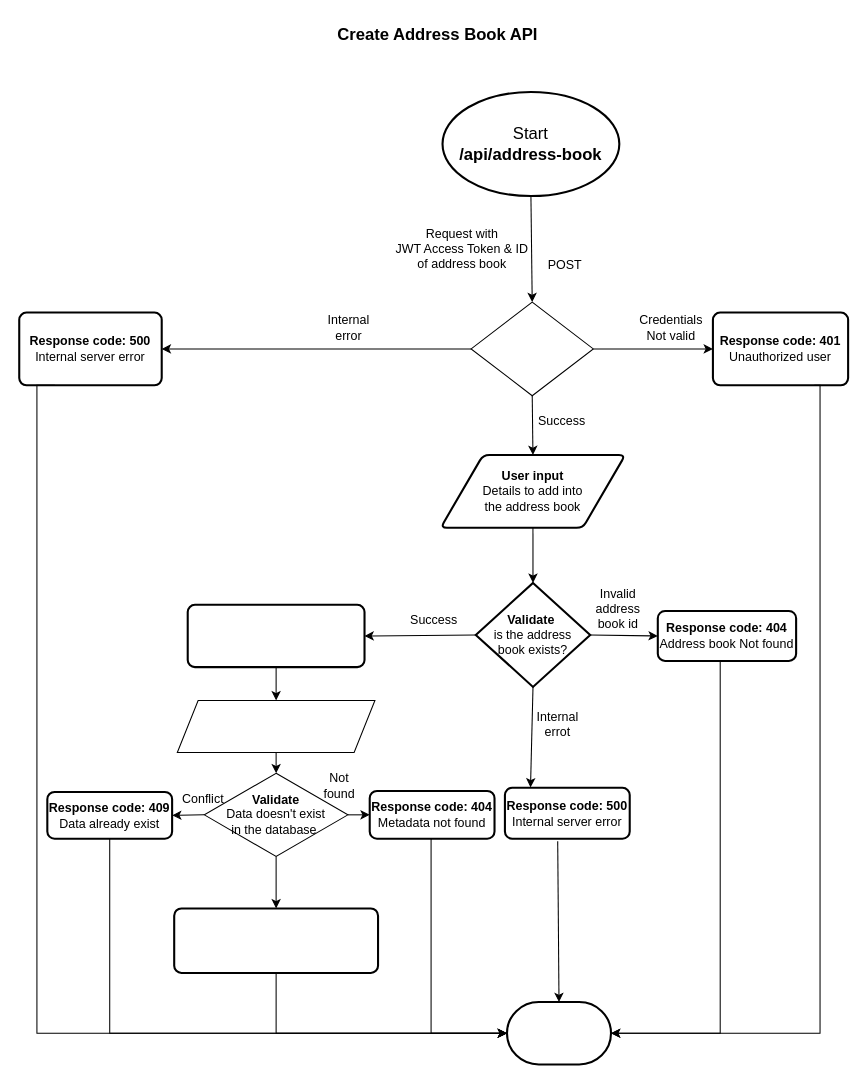
Image size: 866x1083. Some labels were removed from this diagram. Each missing label, with the centre of its shape:
is authorized?: the point at 531,348
Path Proceed to add the address book in the database: the point at 275,635
Response code: 200 Address book created successfully Id of the address book: the point at 276,940
Stop: the point at 558,1032
User input Get the data from user to add into the address book: the point at 275,725
